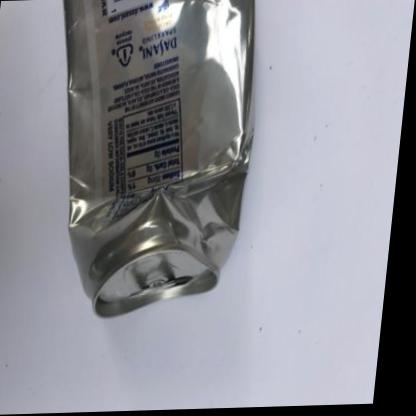trash: (65, 0, 253, 316)
